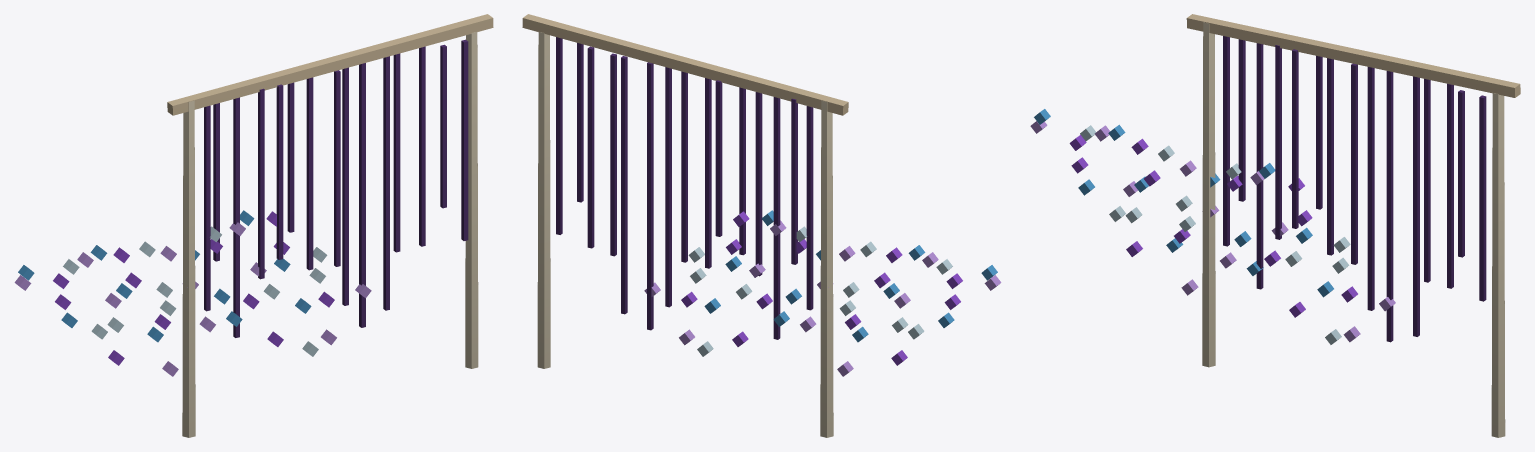
Rendered from vine_curtain.glb.
The picture shows the model from 3 angles, left to right: view 1: azimuth 30°, elevation 25°; view 2: azimuth 150°, elevation 25°; view 3: azimuth 330°, elevation 25°; orthographic projection. The views are drawn at different scales.
Parts seen in each view (by area): view 1: vine_curtain; view 2: vine_curtain; view 3: vine_curtain.
Part boxes in pixels (x1,y1,x2,y2): vine_curtain: (14,14,493,437); vine_curtain: (522,14,1001,437); vine_curtain: (1030,14,1520,437).
Bounding box in the file's own units: 5.03 × 3.5 × 0.1748.
